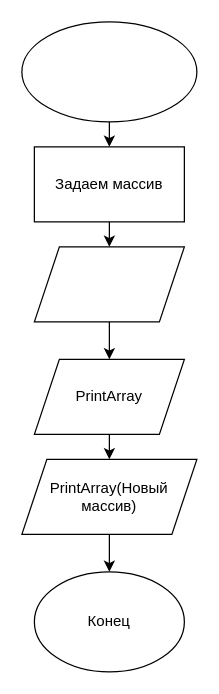
Image size: 219x694. Some labels were removed from this diagram. Here are the shapes that lost their labels. From the top down, the box of each, then its label:
(21, 21, 197, 122): Начало
(33, 246, 184, 322): ParsArray
